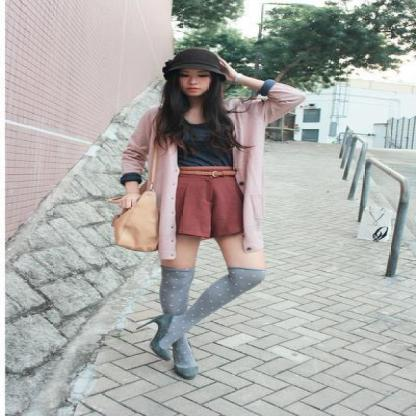bag: (105, 196, 160, 252)
hat: (165, 49, 229, 74)
jacket: (103, 82, 315, 267)
shirt: (170, 125, 232, 170)
shoe: (138, 316, 196, 384)
shorts: (176, 167, 244, 246)
